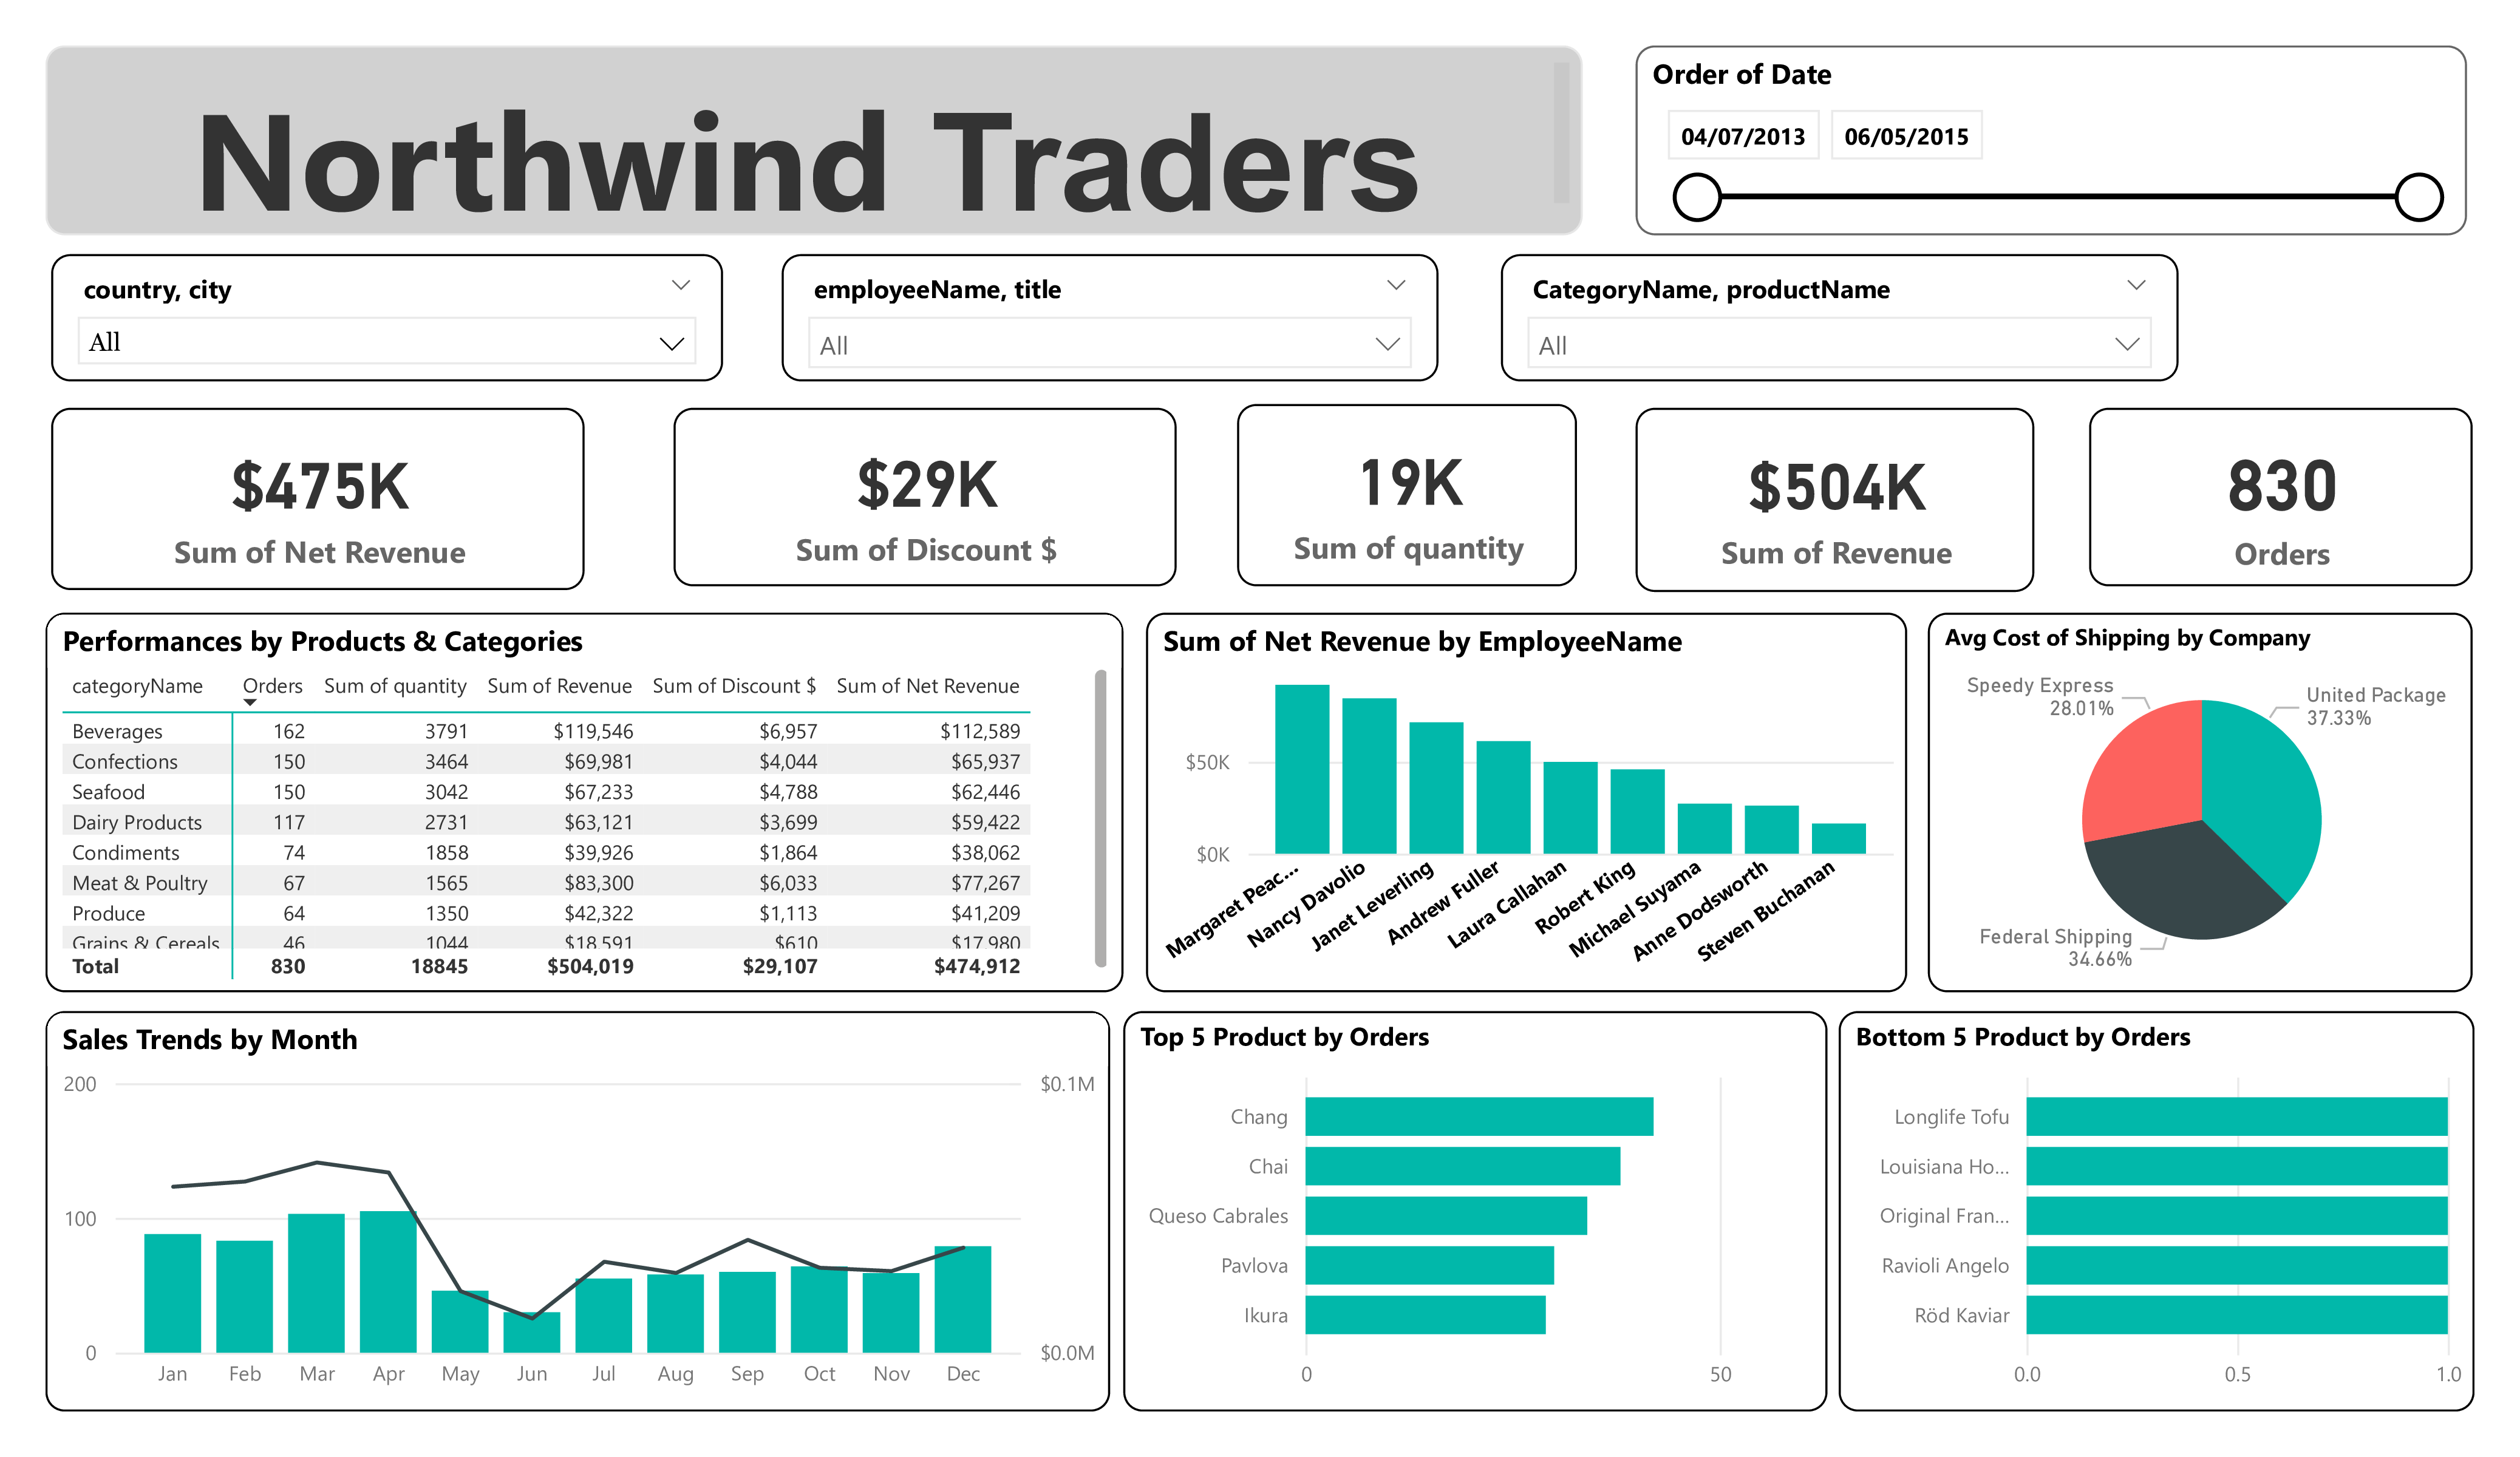

The dashboard page shown, as its layout file describes it:
{"tool":"powerbi","page":{"name":"North Wind Dashboard","canvas":[1280,720],"ordinal":0},"visuals":[{"type":"slicer","fields":{"Values":["customers.country","customers.city"]},"box":[2.7,109.8,354,67.2],"z":0},{"type":"slicer","fields":{"Values":["categories.categoryName","products.productName"]},"box":[767.1,109.8,356.8,67.2],"z":1000},{"type":"slicer","fields":{"Values":["employees.employeeName","employees.title"]},"box":[388.3,109.8,345.8,67.2],"z":2000},{"type":"slicer","title":"Order of Date","fields":{"Values":["orders.orderDate"]},"box":[838.4,0,437.7,100.2],"z":3000},{"type":"card","fields":{"Values":["order_details.Revenue"]},"box":[838.4,190.7,209.9,97.4],"z":4000},{"type":"card","fields":{"Values":["order_details.Discount $"]},"box":[330.7,190.7,264.8,94.7],"z":5000},{"type":"card","fields":{"Values":["order_details.Net Revenue"]},"box":[2.7,190.7,281.3,96.1],"z":6000},{"type":"card","fields":{"Values":["order_details.Orders"]},"box":[1077.2,190.7,201.7,94.7],"z":7000},{"type":"card","fields":{"Values":["order_details.quantity"]},"box":[628.5,189.4,178.4,96.1],"z":8000},{"type":"lineClusteredColumnComboChart","title":"Sales Trends by Month","fields":{"Category":["Calender.Month"],"Y":["order_details.Orders"],"Y2":["order_details.Revenue"]},"box":[0,509.1,561.2,211.3],"z":9000},{"type":"pieChart","title":"Avg Cost of Shipping by Company","fields":{"Category":["shippers.companyName"],"Y":["orders.freight"]},"box":[992.1,299.1,286.8,200.3],"z":10000},{"type":"barChart","title":"Top 5 Product by Orders","fields":{"Category":["products.productName"],"Y":["order_details.Orders"]},"box":[568.1,509.1,370.5,211.3],"z":11000},{"type":"barChart","title":"Bottom 5 Product by Orders","fields":{"Category":["products.productName"],"Y":["order_details.Orders"]},"box":[945.5,509.1,334.8,211.3],"z":12000},{"type":"pivotTable","title":"Performances by Products & Categories","fields":{"Rows":["categories.categoryName","products.productName"],"Values":["order_details.Orders","order_details.quantity","order_details.Revenue","order_details.Discount $","order_details.Net Revenue"]},"box":[0,299.1,568.1,200.3],"z":13000},{"type":"clusteredColumnChart","title":"Sum of Net Revenue by EmployeeName","fields":{"Category":["employees.employeeName"],"Y":["order_details.Net Revenue"]},"box":[580.4,299.1,400.7,200.3],"z":14000},{"type":"textbox","box":[0,0,810,100],"z":15000}]}

Visuals, with their boxes on the page's 1280x720 design canvas (x1, y1, x2, y2). These are canvas units, not pixel positions in the 2520x1457 screenshot, which may show the page scaled, cropped or inside an application window:
slicer - customers.country x customers.city: box(3, 110, 357, 177)
slicer - categories.categoryName x products.productName: box(767, 110, 1124, 177)
slicer - employees.employeeName x employees.title: box(388, 110, 734, 177)
"Order of Date" slicer: box(838, 0, 1276, 100)
card - order_details.Revenue: box(838, 191, 1048, 288)
card - order_details.Discount $: box(331, 191, 596, 285)
card - order_details.Net Revenue: box(3, 191, 284, 287)
card - order_details.Orders: box(1077, 191, 1279, 285)
card - order_details.quantity: box(628, 189, 807, 286)
"Sales Trends by Month" lineClusteredColumnComboChart: box(0, 509, 561, 720)
"Avg Cost of Shipping by Company" pieChart: box(992, 299, 1279, 499)
"Top 5 Product by Orders" barChart: box(568, 509, 939, 720)
"Bottom 5 Product by Orders" barChart: box(946, 509, 1280, 720)
"Performances by Products & Categories" pivotTable: box(0, 299, 568, 499)
"Sum of Net Revenue by EmployeeName" clusteredColumnChart: box(580, 299, 981, 499)
textbox: box(0, 0, 810, 100)
